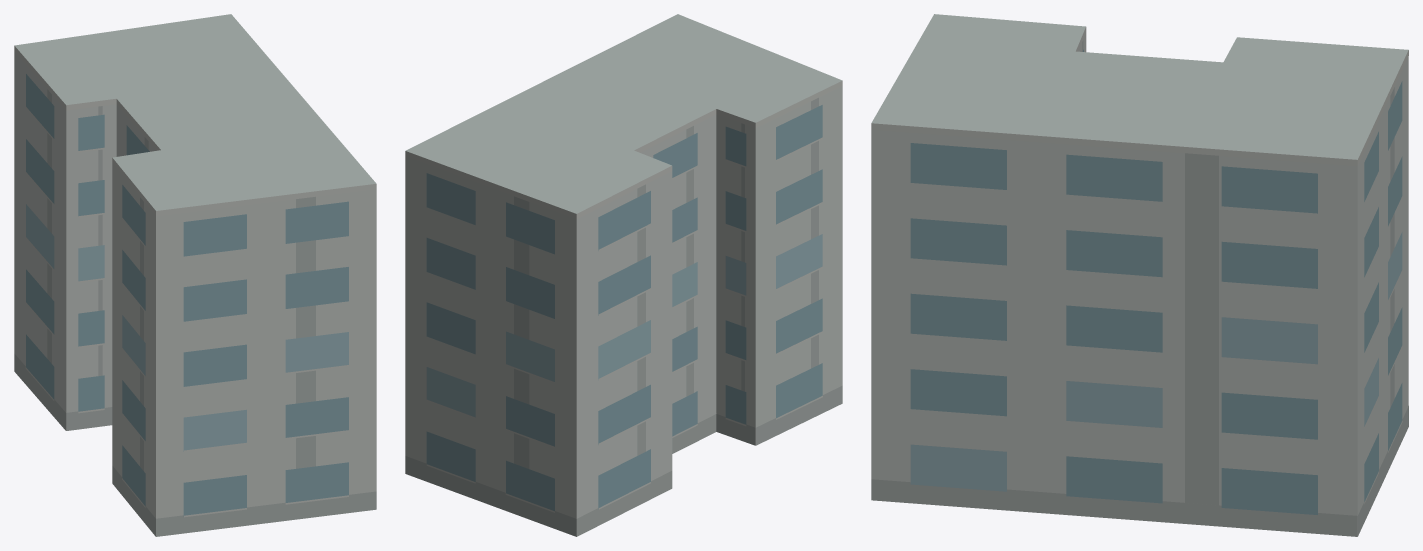
The model's file is survey-upis-32806006.glb.
The picture shows the model from 3 angles, left to right: view 1: azimuth 30°, elevation 25°; view 2: azimuth 150°, elevation 25°; view 3: azimuth 270°, elevation 25°; orthographic projection. The views are drawn at different scales.
Parts seen in each view (by area): view 1: survey-upis-32806006.tmp; view 2: survey-upis-32806006.tmp; view 3: survey-upis-32806006.tmp.
Boxes of the visible parts, x1,y1,x2,y2 form: survey-upis-32806006.tmp: [14, 14, 376, 536]; survey-upis-32806006.tmp: [405, 14, 842, 536]; survey-upis-32806006.tmp: [871, 14, 1408, 536].
Size of the model in its own units: 12 by 14.45 by 18.68.
